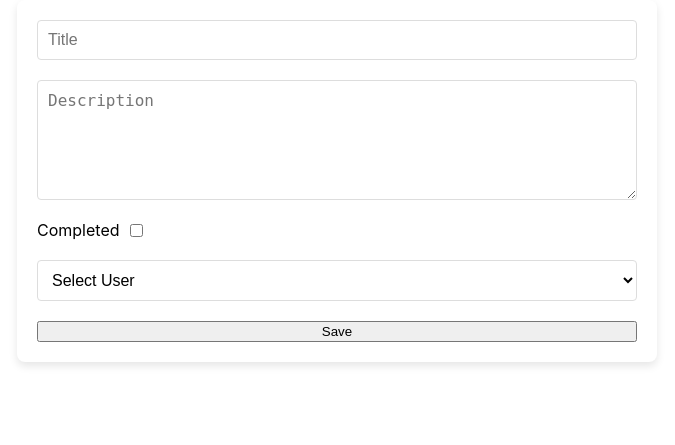
Scenario: TaskForm Component › handles errors during save
Expected: the dropdown is shown, [37,260,637,301]
Type "New Task" into the field with placeholder "Title" at (337, 40), box [37,20,637,60]
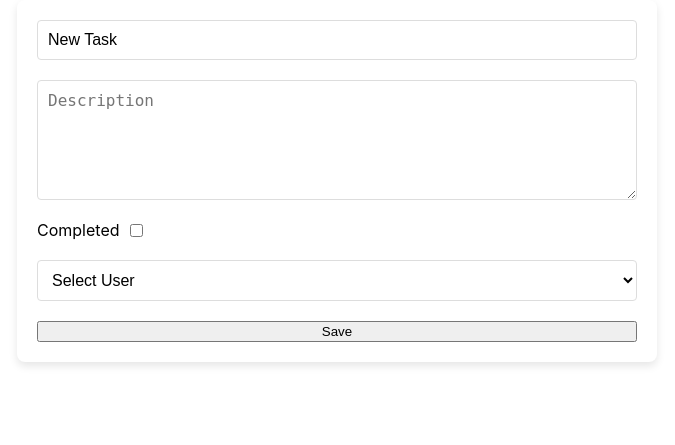
Select "Alice (alice@example.com)" in the dropdown at (337, 280), box [37,260,637,301]
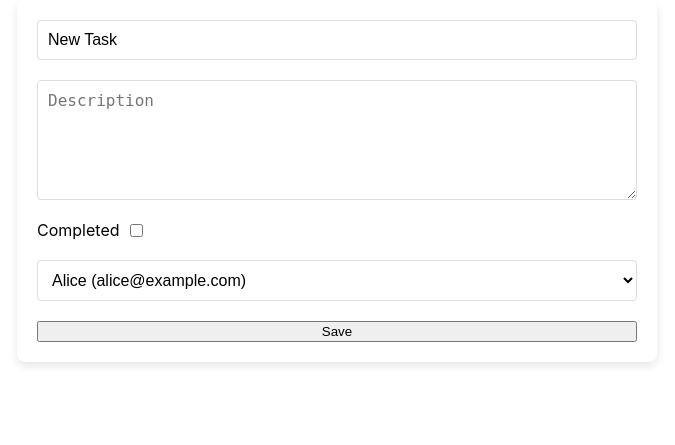
Click the button "Save" at (337, 332), box [37,321,637,342]
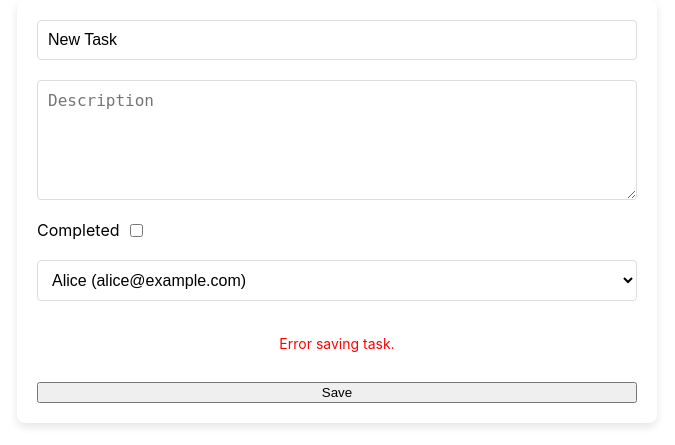
Expected: the text "Error saving task." is shown, [279,335,395,352]
